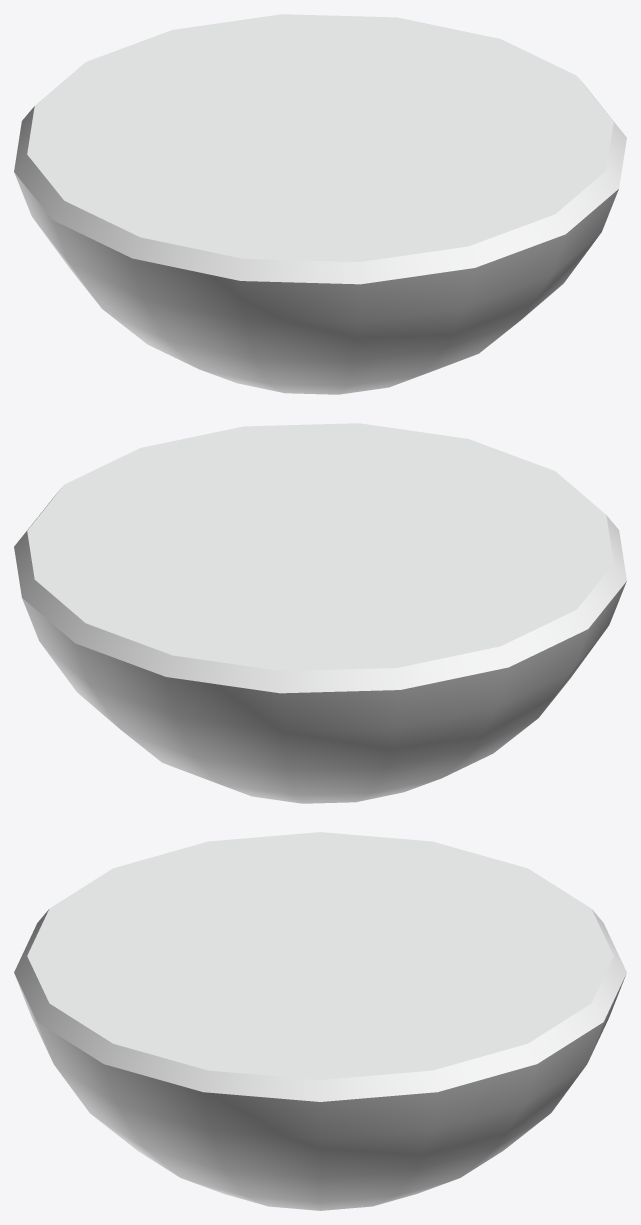
Rendered from Leg_D_01.fbx.
3 views of the same model, one above another, from view 1: azimuth 30°, elevation 25°; view 2: azimuth 150°, elevation 25°; view 3: azimuth 270°, elevation 25° (orthographic).
Parts seen in each view (by area): view 1: Leg_D_01; view 2: Leg_D_01; view 3: Leg_D_01.
Part boxes in pixels (box(x1,y1,x2,y2)): Leg_D_01: box(14, 14, 626, 394); Leg_D_01: box(14, 423, 626, 803); Leg_D_01: box(14, 832, 626, 1210).
Bounding box in the file's own units: 95.42 × 38.87 × 95.42.
